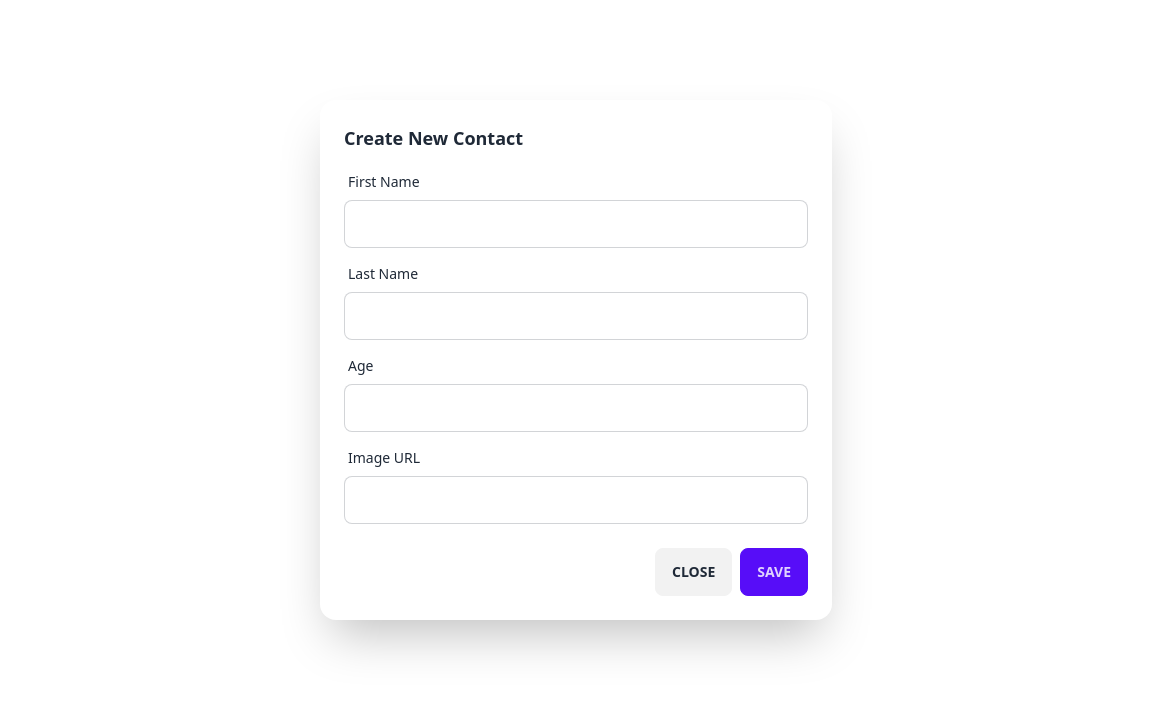
Scenario: Contact Form unit test › Should render error messages when required input fields are not inserted
Click the button "Save": (774, 572) [740,548,808,596]
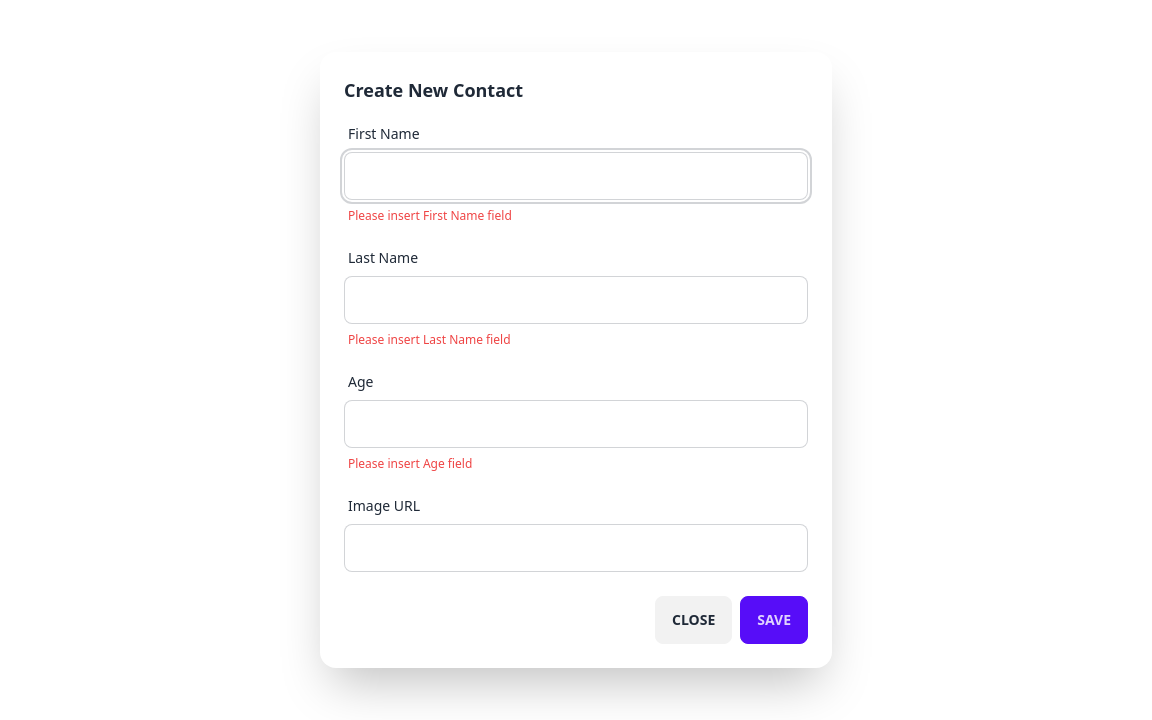
Expected: the text "Please insert First Name field" is shown, [348,208,512,224]
Expected: the text "Please insert Last Name field" is shown, [348,332,511,348]
Expected: the text "Please insert Age field" is shown, [348,456,472,472]
